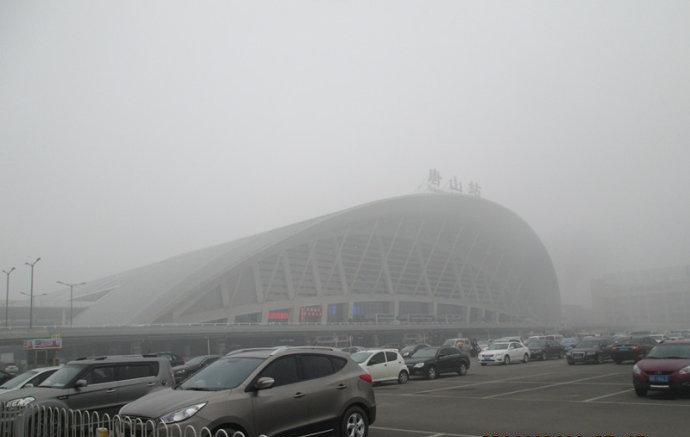car: (115, 345, 375, 437), (1, 350, 177, 434), (631, 340, 690, 398), (336, 347, 409, 387), (404, 345, 470, 380), (166, 353, 236, 385), (564, 337, 618, 363), (609, 335, 658, 361), (476, 341, 530, 364), (524, 338, 569, 361), (442, 337, 474, 358)
